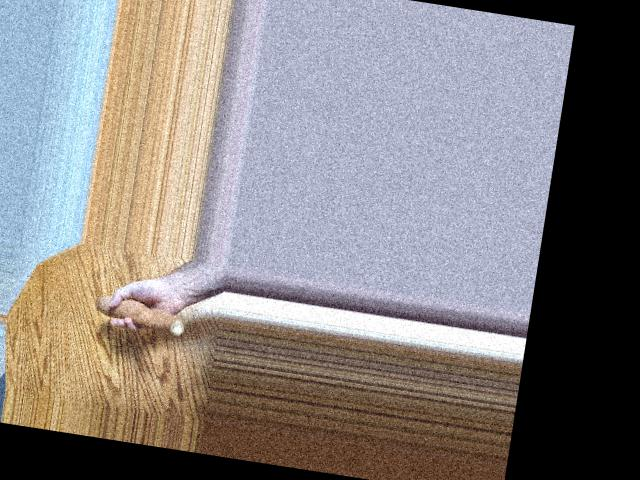sweet_potato: (86, 288, 190, 334)
